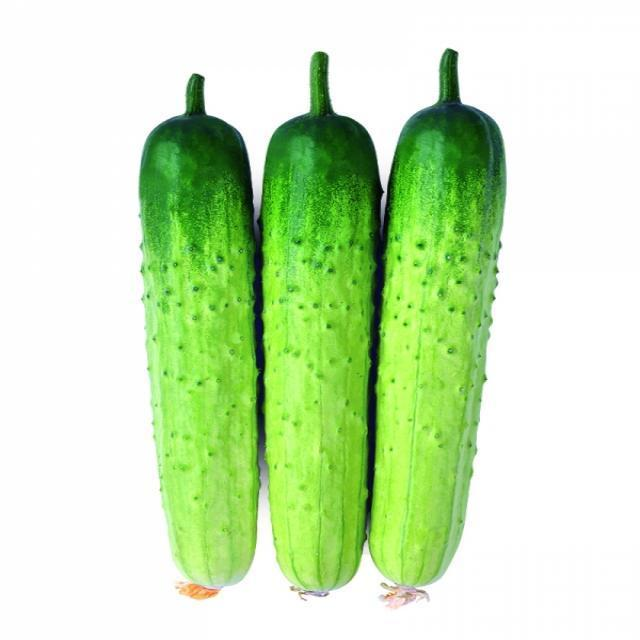cucumber: (85, 31, 534, 616), (388, 44, 542, 622), (110, 71, 260, 624)
